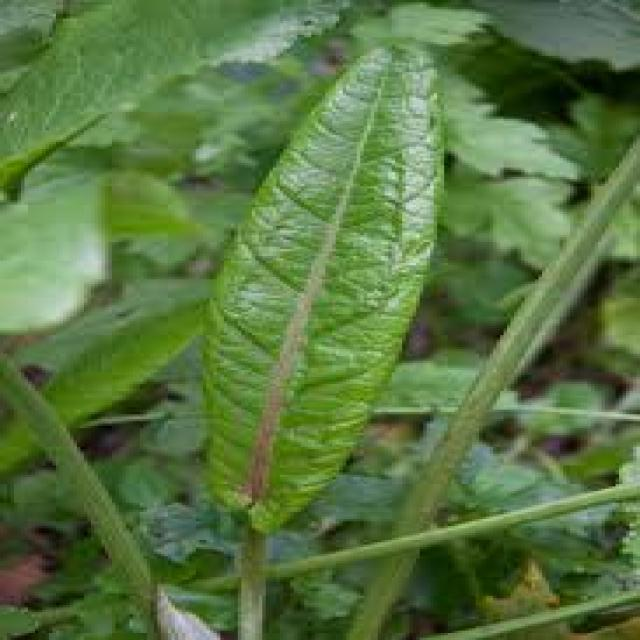organic waste: (185, 42, 469, 547)
